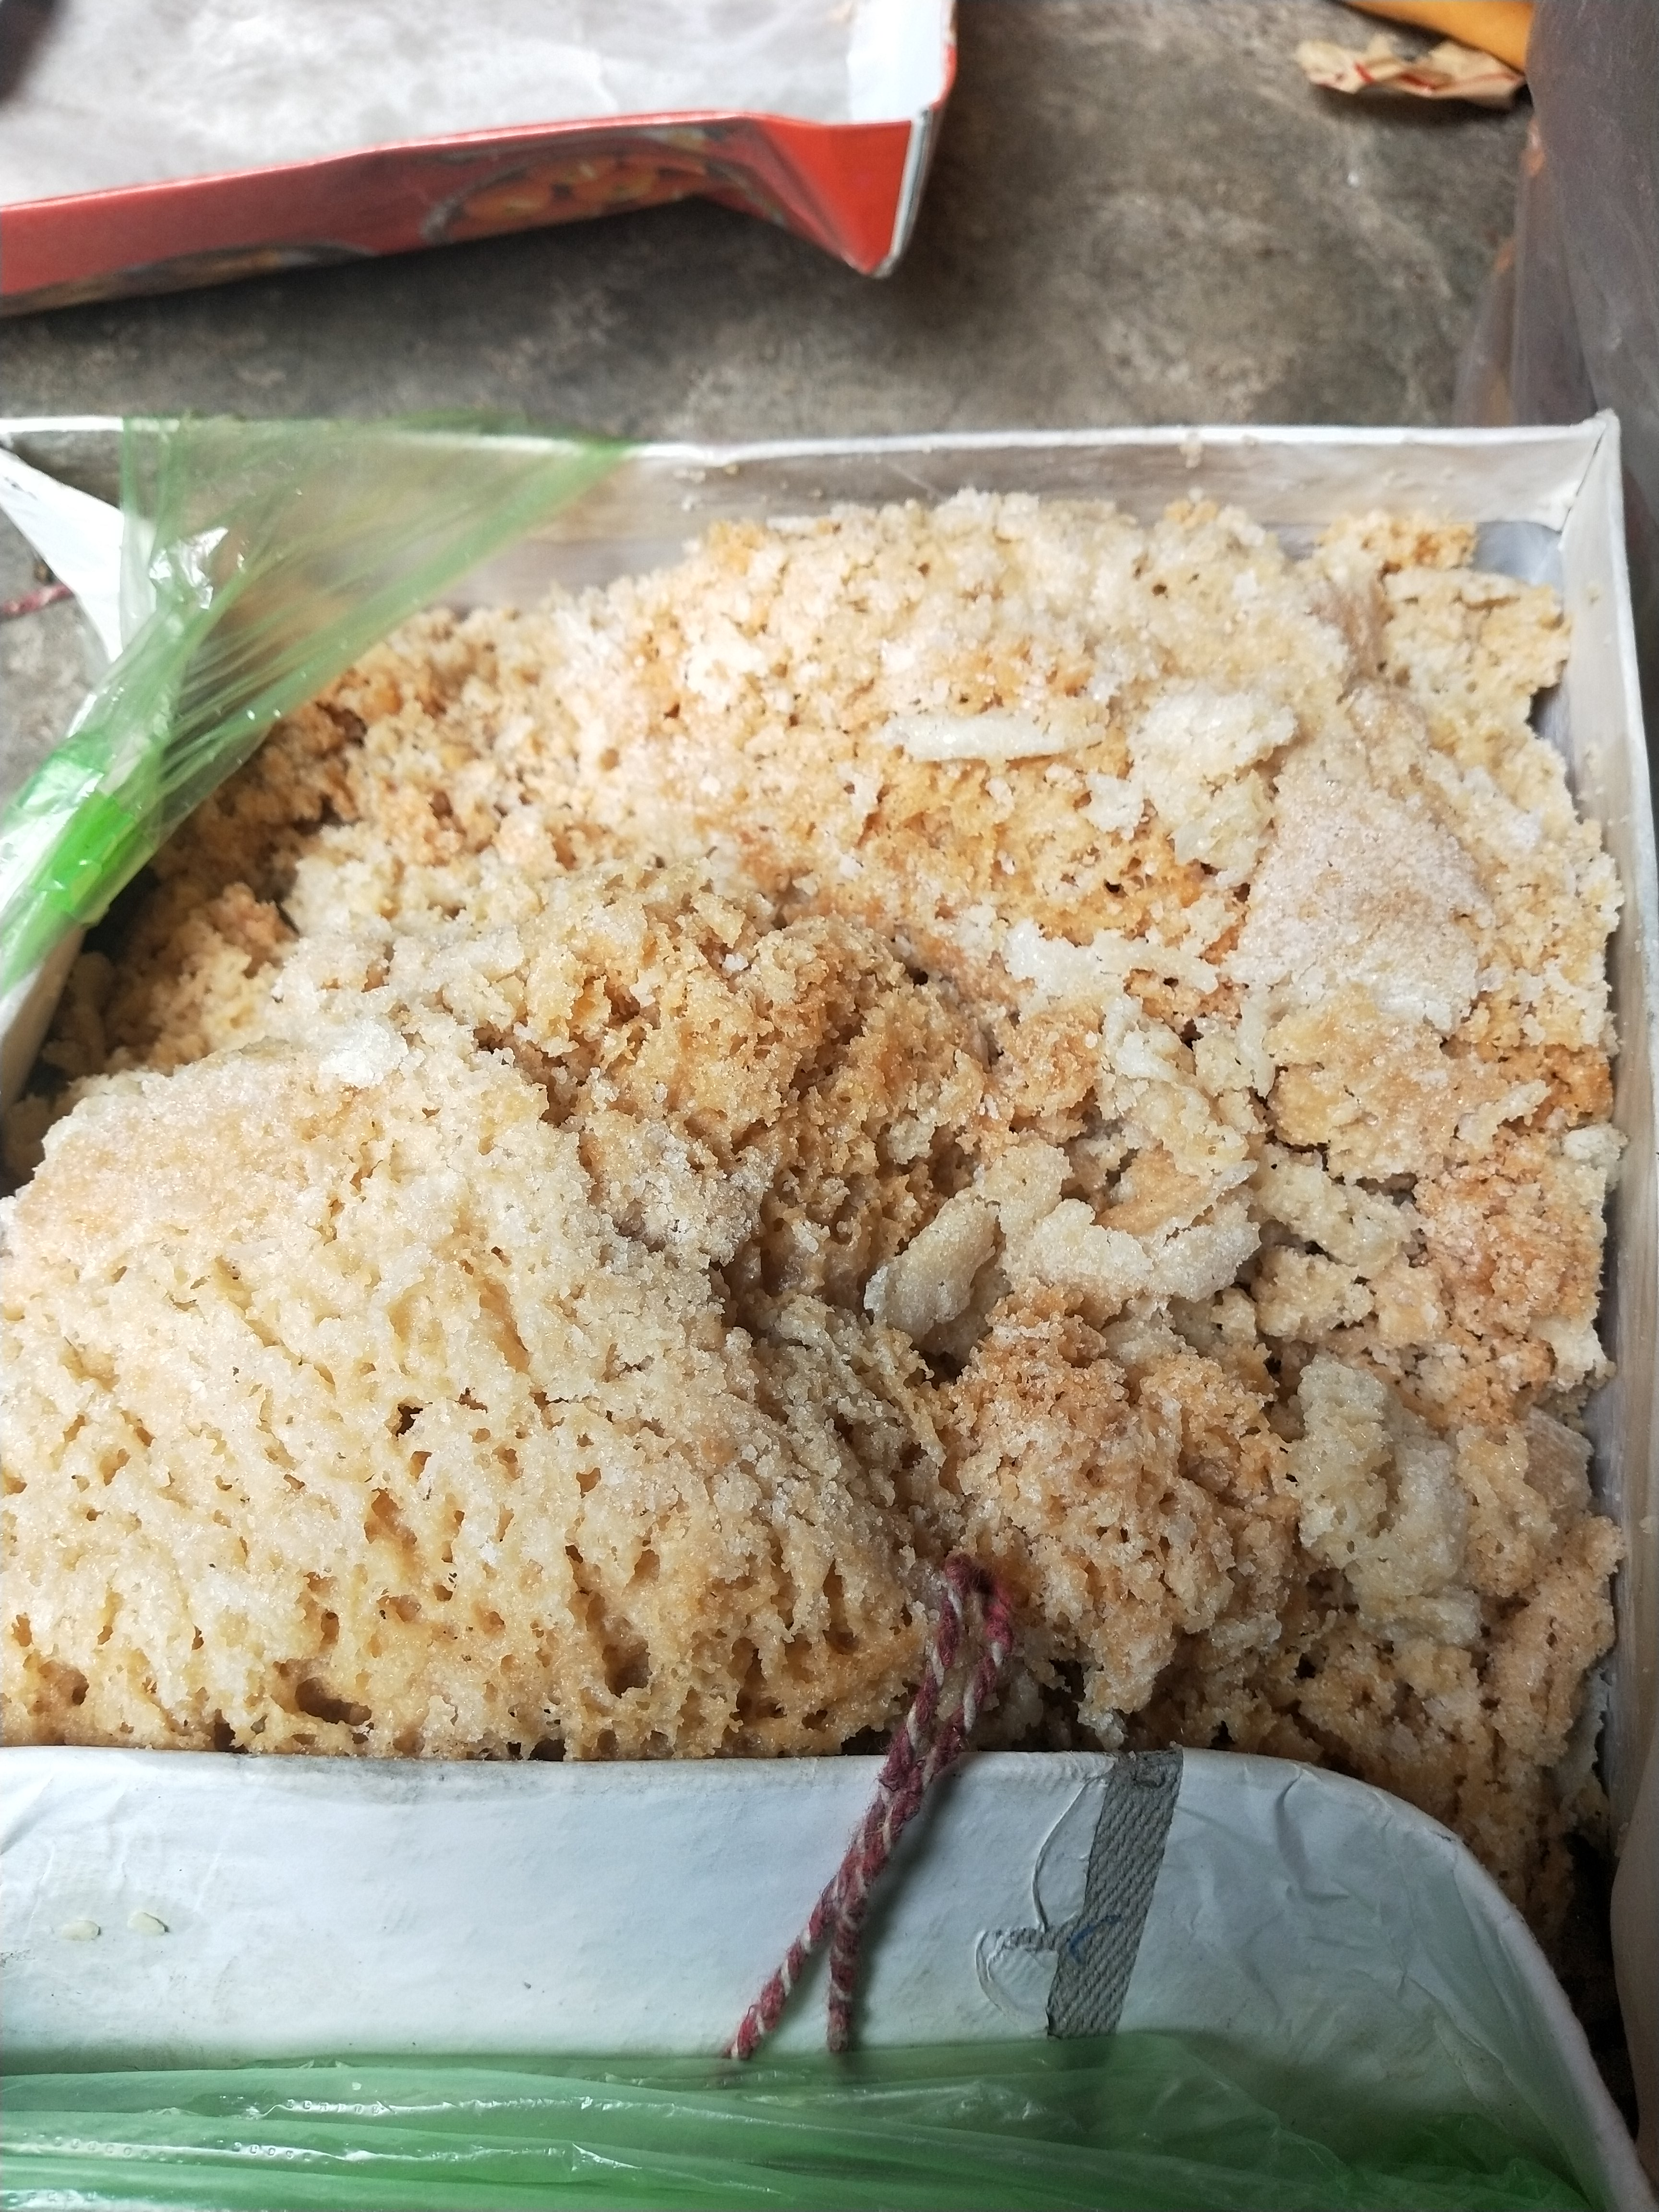food: (0, 477, 1638, 1977)
